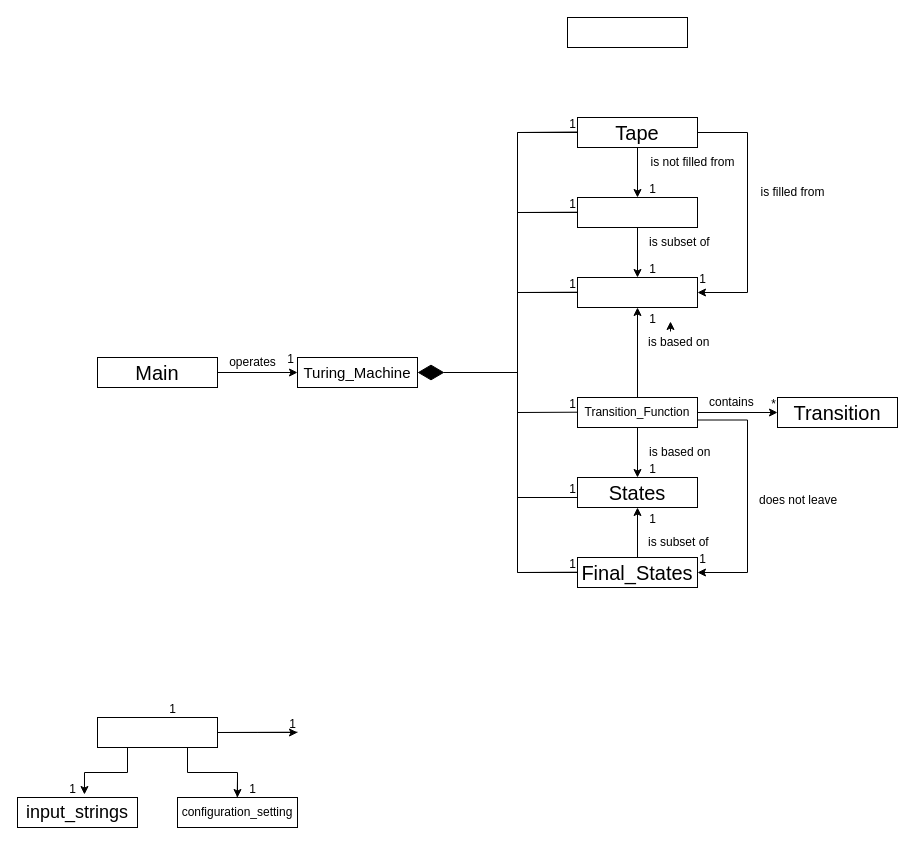
This 915x845 diagram has some shape labels left out. The shapes that lost their labels are listed below. From the top down, each one's centre as x and y in pixels, then its label:
At point 627,32: "spacer".
At point 637,212: "Input_Alphabet".
At point 637,292: "Tape_Alphabet".
At point 157,732: "Command".
